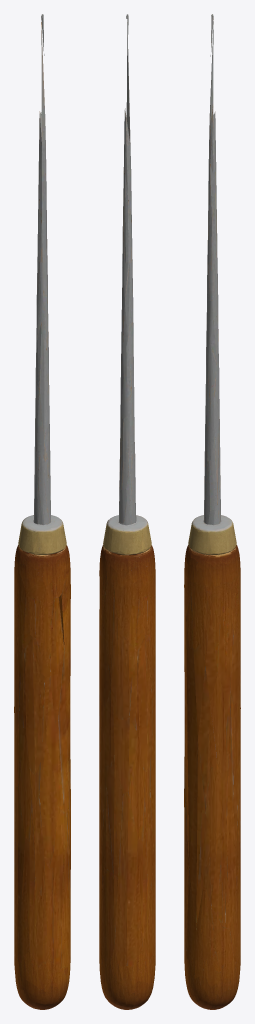
File: ebru-bizi.glb
3 views of the same model, side by side, from view 1: azimuth 90°, elevation 25°; view 2: azimuth 150°, elevation 25°; view 3: azimuth 270°, elevation 25° (orthographic).
Parts seen in each view (by area): view 1: output_unwrapped; view 2: output_unwrapped; view 3: output_unwrapped.
Boxes of the visible parts, <box> form: output_unwrapped: <box>14,14,70,1009</box>; output_unwrapped: <box>99,14,155,1009</box>; output_unwrapped: <box>184,14,240,1009</box>.
Bounding box in the file's own units: 0.0983 × 1.9 × 0.0983.
Materials: 1 (1 with a texture image).
